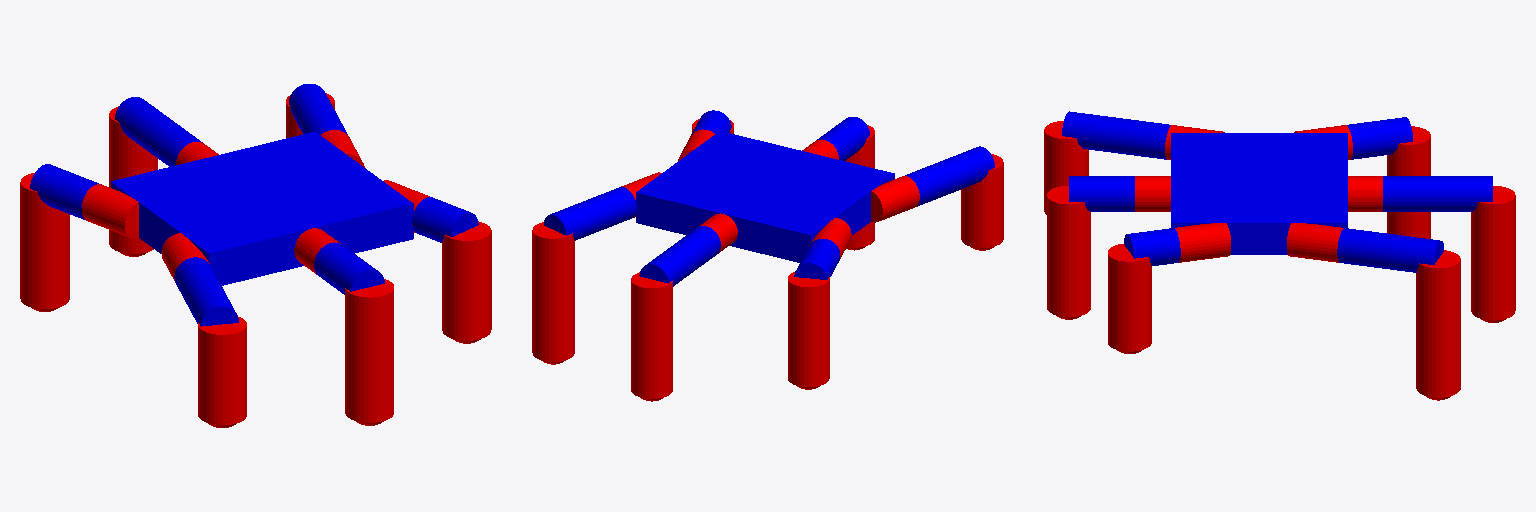
--- What the picture shows (computed from the rendered views, not written in the file) ---
The picture shows the robot from 3 angles, left to right: view 1: azimuth 30°, elevation 25°; view 2: azimuth 150°, elevation 25°; view 3: azimuth 270°, elevation 25°; orthographic projection.
Model pexod with 19 links and 18 joints (18 revolute), rooted at base_link, posed every joint at zero.
Visible links, largest first — view 1: base_link, leg_4_3, leg_0_3, leg_3_3, leg_5_3, leg_1_2, leg_5_2, leg_1_3, leg_4_2, leg_0_1, leg_0_2, leg_3_2 (+5 smaller); view 2: base_link, leg_2_3, leg_1_3, leg_0_3, leg_5_3, leg_2_2, leg_5_2, leg_1_2, leg_5_1, leg_0_2, leg_4_2, leg_4_3 (+3 smaller); view 3: base_link, leg_2_3, leg_1_3, leg_4_3, leg_3_3, leg_1_2, leg_5_2, leg_2_2, leg_0_3, leg_5_3, leg_4_2, leg_0_2 (+5 smaller).
Boxes of the visible links, bbox=[...] form: base_link: bbox=[111, 132, 413, 285]; leg_4_3: bbox=[345, 279, 393, 425]; leg_0_3: bbox=[20, 173, 69, 311]; leg_3_3: bbox=[442, 221, 491, 343]; leg_5_3: bbox=[198, 317, 246, 427]; leg_1_2: bbox=[115, 97, 202, 166]; leg_5_2: bbox=[174, 257, 238, 326]; leg_1_3: bbox=[109, 106, 157, 256]; leg_4_2: bbox=[314, 242, 384, 294]; leg_0_1: bbox=[82, 184, 138, 238]; leg_0_2: bbox=[30, 164, 101, 219]; leg_3_2: bbox=[412, 197, 478, 242]; base_link: bbox=[636, 131, 894, 262]; leg_2_3: bbox=[532, 222, 574, 364]; leg_1_3: bbox=[631, 272, 672, 401]; leg_0_3: bbox=[788, 272, 829, 389]; leg_5_3: bbox=[961, 154, 1003, 250]; leg_2_2: bbox=[544, 187, 636, 240]; leg_5_2: bbox=[905, 146, 994, 206]; leg_1_2: bbox=[639, 226, 720, 286]; leg_5_1: bbox=[871, 176, 919, 222]; leg_0_2: bbox=[794, 239, 839, 279]; leg_4_2: bbox=[817, 117, 869, 160]; leg_4_3: bbox=[846, 125, 874, 250]; base_link: bbox=[1171, 133, 1347, 254]; leg_2_3: bbox=[1416, 250, 1460, 400]; leg_1_3: bbox=[1471, 186, 1515, 322]; leg_4_3: bbox=[1047, 186, 1090, 319]; leg_3_3: bbox=[1108, 244, 1151, 353]; leg_1_2: bbox=[1383, 176, 1492, 211]; leg_5_2: bbox=[1062, 111, 1170, 159]; leg_2_2: bbox=[1337, 228, 1443, 272]; leg_0_3: bbox=[1387, 126, 1430, 238]; leg_5_3: bbox=[1044, 121, 1088, 214]; leg_4_2: bbox=[1069, 176, 1134, 211]; leg_0_2: bbox=[1347, 117, 1412, 159].
Bounding box of the posed robot: 0.395 × 0.532 × 0.1938 m (x, y, z).
Geometry: primitives only (box / cylinder / sphere), no mesh files.

robot.urdf — pexod:
<?xml version="1.0" ?>
<!-- =================================================================================== -->
<!-- |    This document was autogenerated by xacro from pexod.xacro                    | -->
<!-- |    EDITING THIS FILE BY HAND IS NOT RECOMMENDED                                 | -->
<!-- =================================================================================== -->
<robot name="pexod" xmlns:xacro="http://www.ros.org/wiki/xacro">
  <!-- <xacro:include filename="$(find pexod_description)/urdf/pexod_control.xacro" /> -->
  <!-- MATERIALS -->
  <material name="Blue">
    <color rgba="0 0 1 1"/>
  </material>
  <material name="Red">
    <color rgba="1 0 0 1"/>
  </material>
  <material name="Green">
    <color rgba="0 1 0 1"/>
  </material>
  <material name="Yellow">
    <color rgba="1 1 0 1"/>
  </material>
  <material name="LightGrey">
    <color rgba="0.6 0.6 0.6 1.0"/>
  </material>
  <!-- END OF MATERIALS -->
  <!-- XACRO MACROS FOR VISUALS AND COLLISIONS -->
  <!-- END OF XACRO MACROS -->
  <!-- TORSO -->
  <link name="base_link">
    <visual>
      <origin rpy="0 0 0" xyz="0 0 0"/>
      <geometry>
        <box size="0.24 0.2 0.04"/>
      </geometry>
      <material name="Blue"/>
    </visual>
    <collision>
      <origin rpy="0 0 0" xyz="0 0 0"/>
      <geometry>
        <box size="0.24 0.2 0.04"/>
      </geometry>
    </collision>
    <inertial>
      <!-- CENTER OF MASS -->
      <origin rpy="0 0 0" xyz="0 0 0"/>
      <mass value="1.031"/>
      <!-- box inertia: 1/12*m(y^2+z^2), ... -->
      <inertia ixx="0.00357413333333" ixy="0" ixz="0" iyy="0.00508626666667" iyz="0" izz="0.00838546666667"/>
    </inertial>
  </link>
  <!-- XACRO MACRO FOR LEGS LINKS/JOINTS -->
  <!-- END OF LEG LINKS/JOINTS -->
  <joint name="body_leg_2" type="revolute">
    <parent link="base_link"/>
    <child link="leg_2_1"/>
    <limit effort="30.0" lower="-1.57079632679" upper="1.57079632679" velocity="7.0"/>
    <origin rpy="0 0 -0.3" xyz="0.11 0.04 0"/>
    <!-- <xacro:if value="${index == 5 or index == 4 or index == 3}">
                <axis xyz="0 0 1"/>
            </xacro:if>
            <xacro:if value="${index == 2 or index == 1 or index == 0}"> -->
    <axis xyz="0 0 1"/>
    <!-- </xacro:if> -->
    <dynamics damping="0.0"/>
  </joint>
  <link name="leg_2_1">
    <visual>
      <origin rpy="1.57079632679 0 0" xyz="0.01 0.03 0"/>
      <geometry>
        <cylinder length="0.06" radius="0.02"/>
      </geometry>
      <material name="Red"/>
    </visual>
    <collision>
      <origin rpy="1.57079632679 0 0" xyz="0.01 0.03 0"/>
      <geometry>
        <box size="0.02 0.02 0.06"/>
      </geometry>
    </collision>
    <inertial>
      <!-- CENTER OF MASS -->
      <origin rpy="1.57079632679 0 0" xyz="0.01 0.03 0"/>
      <mass value="0.02"/>
      <!-- box inertia: 1/12*m(y^2+z^2), ... -->
      <inertia ixx="6.66666666667e-06" ixy="0" ixz="0" iyy="6.66666666667e-06" iyz="0" izz="1.33333333333e-06"/>
    </inertial>
  </link>
  <joint name="leg_2_1_2" type="revolute">
    <parent link="leg_2_1"/>
    <child link="leg_2_2"/>
    <limit effort="30.0" lower="-0.78539816339" upper="0.78539816339" velocity="7.0"/>
    <origin rpy="0 0 0" xyz="0 0.06 0"/>
    <axis xyz="1 0 0"/>
    <dynamics damping="0.0"/>
  </joint>
  <link name="leg_2_2">
    <visual>
      <origin rpy="1.57079632679 0 0" xyz="0.01 0.057090820959 0"/>
      <geometry>
        <cylinder length="0.114181641918" radius="0.02"/>
      </geometry>
      <material name="Blue"/>
    </visual>
    <collision>
      <origin rpy="1.57079632679 0 0" xyz="0.01 0.057090820959 0"/>
      <geometry>
        <box size="0.02 0.02 0.114181641918"/>
      </geometry>
    </collision>
    <inertial>
      <!-- CENTER OF MASS -->
      <origin rpy="1.57079632679 0 0" xyz="0.01 0.057090820959 0"/>
      <mass value="0.184"/>
      <!-- box inertia: 1/12*m(y^2+z^2), ... -->
      <inertia ixx="0.000206040859383" ixy="0" ixz="0" iyy="0.000206040859383" iyz="0" izz="1.22666666667e-05"/>
    </inertial>
  </link>
  <joint name="leg_2_2_3" type="revolute">
    <parent link="leg_2_2"/>
    <child link="leg_2_3"/>
    <limit effort="30.0" lower="-0.78539816339" upper="0.78539816339" velocity="7.0"/>
    <origin rpy="-1.57079632679 0 0" xyz="0 0.114181641918 0"/>
    <axis xyz="-1 0 0"/>
    <dynamics damping="0.0"/>
  </joint>
  <link name="leg_2_3">
    <visual>
      <origin rpy="1.57079632679 0 0" xyz="0.0125 0.0806663471095 0"/>
      <geometry>
        <cylinder length="0.161332694219" radius="0.025"/>
      </geometry>
      <material name="Red"/>
    </visual>
    <visual>
      <origin rpy="1.57079632679 0 0" xyz="0.0125 0.148832694219 0"/>
      <geometry>
        <sphere radius="0.025"/>
      </geometry>
      <material name="Red"/>
    </visual>
    <collision>
      <origin rpy="1.57079632679 0 0" xyz="0.0125 0.0806663471095 0"/>
      <geometry>
        <box size="0.025 0.025 0.161332694219"/>
      </geometry>
    </collision>
    <collision>
      <origin rpy="1.57079632679 0 0" xyz="0.0125 0.148832694219 0"/>
      <geometry>
        <sphere radius="0.025"/>
      </geometry>
      <material name="Red"/>
    </collision>
    <inertial>
      <!-- CENTER OF MASS -->
      <origin rpy="1.57079632679 0 0" xyz="0.0125 0.0806663471095 0"/>
      <mass value="0.04"/>
      <!-- box inertia: 1/12*m(y^2+z^2), ... -->
      <inertia ixx="8.88441274132e-05" ixy="0" ixz="0" iyy="8.88441274132e-05" iyz="0" izz="4.16666666667e-06"/>
    </inertial>
  </link>
  <joint name="body_leg_3" type="revolute">
    <parent link="base_link"/>
    <child link="leg_3_1"/>
    <limit effort="30.0" lower="-1.57079632679" upper="1.57079632679" velocity="7.0"/>
    <origin rpy="0 0 0.3" xyz="0.11 -0.04 0"/>
    <!-- <xacro:if value="${index == 5 or index == 4 or index == 3}">
                <axis xyz="0 0 1"/>
            </xacro:if>
            <xacro:if value="${index == 2 or index == 1 or index == 0}"> -->
    <axis xyz="0 0 1"/>
    <!-- </xacro:if> -->
    <dynamics damping="0.0"/>
  </joint>
  <link name="leg_3_1">
    <visual>
      <origin rpy="1.57079632679 0 0" xyz="0.01 -0.03 0"/>
      <geometry>
        <cylinder length="0.06" radius="0.02"/>
      </geometry>
      <material name="Red"/>
    </visual>
    <collision>
      <origin rpy="1.57079632679 0 0" xyz="0.01 -0.03 0"/>
      <geometry>
        <box size="0.02 0.02 0.06"/>
      </geometry>
    </collision>
    <inertial>
      <!-- CENTER OF MASS -->
      <origin rpy="1.57079632679 0 0" xyz="0.01 -0.03 0"/>
      <mass value="0.02"/>
      <!-- box inertia: 1/12*m(y^2+z^2), ... -->
      <inertia ixx="6.66666666667e-06" ixy="0" ixz="0" iyy="6.66666666667e-06" iyz="0" izz="1.33333333333e-06"/>
    </inertial>
  </link>
  <joint name="leg_3_1_2" type="revolute">
    <parent link="leg_3_1"/>
    <child link="leg_3_2"/>
    <limit effort="30.0" lower="-0.78539816339" upper="0.78539816339" velocity="7.0"/>
    <origin rpy="0 0 0" xyz="0 -0.06 0"/>
    <axis xyz="-1 0 0"/>
    <dynamics damping="0.0"/>
  </joint>
  <link name="leg_3_2">
    <visual>
      <origin rpy="1.57079632679 0 0" xyz="0.01 -0.0274168233649 0"/>
      <geometry>
        <cylinder length="0.0548336467298" radius="0.02"/>
      </geometry>
      <material name="Blue"/>
    </visual>
    <collision>
      <origin rpy="1.57079632679 0 0" xyz="0.01 -0.0274168233649 0"/>
      <geometry>
        <box size="0.02 0.02 0.0548336467298"/>
      </geometry>
    </collision>
    <inertial>
      <!-- CENTER OF MASS -->
      <origin rpy="1.57079632679 0 0" xyz="0.01 -0.0274168233649 0"/>
      <mass value="0.184"/>
      <!-- box inertia: 1/12*m(y^2+z^2), ... -->
      <inertia ixx="5.22365084766e-05" ixy="0" ixz="0" iyy="5.22365084766e-05" iyz="0" izz="1.22666666667e-05"/>
    </inertial>
  </link>
  <joint name="leg_3_2_3" type="revolute">
    <parent link="leg_3_2"/>
    <child link="leg_3_3"/>
    <limit effort="30.0" lower="-0.78539816339" upper="0.78539816339" velocity="7.0"/>
    <origin rpy="1.57079632679 0 0" xyz="0 -0.0548336467298 0"/>
    <axis xyz="1 0 0"/>
    <dynamics damping="0.0"/>
  </joint>
  <link name="leg_3_3">
    <visual>
      <origin rpy="1.57079632679 0 0" xyz="0.0125 -0.0559832169965 0"/>
      <geometry>
        <cylinder length="0.111966433993" radius="0.025"/>
      </geometry>
      <material name="Red"/>
    </visual>
    <visual>
      <origin rpy="1.57079632679 0 0" xyz="0.0125 -0.099466433993 0"/>
      <geometry>
        <sphere radius="0.025"/>
      </geometry>
      <material name="Red"/>
    </visual>
    <collision>
      <origin rpy="1.57079632679 0 0" xyz="0.0125 -0.0559832169965 0"/>
      <geometry>
        <box size="0.025 0.025 0.111966433993"/>
      </geometry>
    </collision>
    <collision>
      <origin rpy="1.57079632679 0 0" xyz="0.0125 -0.099466433993 0"/>
      <geometry>
        <sphere radius="0.025"/>
      </geometry>
      <material name="Red"/>
    </collision>
    <inertial>
      <!-- CENTER OF MASS -->
      <origin rpy="1.57079632679 0 0" xyz="0.0125 -0.0559832169965 0"/>
      <mass value="0.04"/>
      <!-- box inertia: 1/12*m(y^2+z^2), ... -->
      <inertia ixx="4.38716078037e-05" ixy="0" ixz="0" iyy="4.38716078037e-05" iyz="0" izz="4.16666666667e-06"/>
    </inertial>
  </link>
  <joint name="body_leg_0" type="revolute">
    <parent link="base_link"/>
    <child link="leg_0_1"/>
    <limit effort="30.0" lower="-1.57079632679" upper="1.57079632679" velocity="7.0"/>
    <origin rpy="0 0 0.3" xyz="-0.13 0.04 0"/>
    <!-- <xacro:if value="${index == 5 or index == 4 or index == 3}">
                <axis xyz="0 0 1"/>
            </xacro:if>
            <xacro:if value="${index == 2 or index == 1 or index == 0}"> -->
    <axis xyz="0 0 1"/>
    <!-- </xacro:if> -->
    <dynamics damping="0.0"/>
  </joint>
  <link name="leg_0_1">
    <visual>
      <origin rpy="1.57079632679 0 0" xyz="0.01 0.03 0"/>
      <geometry>
        <cylinder length="0.06" radius="0.02"/>
      </geometry>
      <material name="Red"/>
    </visual>
    <collision>
      <origin rpy="1.57079632679 0 0" xyz="0.01 0.03 0"/>
      <geometry>
        <box size="0.02 0.02 0.06"/>
      </geometry>
    </collision>
    <inertial>
      <!-- CENTER OF MASS -->
      <origin rpy="1.57079632679 0 0" xyz="0.01 0.03 0"/>
      <mass value="0.02"/>
      <!-- box inertia: 1/12*m(y^2+z^2), ... -->
      <inertia ixx="6.66666666667e-06" ixy="0" ixz="0" iyy="6.66666666667e-06" iyz="0" izz="1.33333333333e-06"/>
    </inertial>
  </link>
  <joint name="leg_0_1_2" type="revolute">
    <parent link="leg_0_1"/>
    <child link="leg_0_2"/>
    <limit effort="30.0" lower="-0.78539816339" upper="0.78539816339" velocity="7.0"/>
    <origin rpy="0 0 0" xyz="0 0.06 0"/>
    <axis xyz="1 0 0"/>
    <dynamics damping="0.0"/>
  </joint>
  <link name="leg_0_2">
    <visual>
      <origin rpy="1.57079632679 0 0" xyz="0.01 0.0356251604495 0"/>
      <geometry>
        <cylinder length="0.0712503208989" radius="0.02"/>
      </geometry>
      <material name="Blue"/>
    </visual>
    <collision>
      <origin rpy="1.57079632679 0 0" xyz="0.01 0.0356251604495 0"/>
      <geometry>
        <box size="0.02 0.02 0.0712503208989"/>
      </geometry>
    </collision>
    <inertial>
      <!-- CENTER OF MASS -->
      <origin rpy="1.57079632679 0 0" xyz="0.01 0.0356251604495 0"/>
      <mass value="0.184"/>
      <!-- box inertia: 1/12*m(y^2+z^2), ... -->
      <inertia ixx="8.3974659499e-05" ixy="0" ixz="0" iyy="8.3974659499e-05" iyz="0" izz="1.22666666667e-05"/>
    </inertial>
  </link>
  <joint name="leg_0_2_3" type="revolute">
    <parent link="leg_0_2"/>
    <child link="leg_0_3"/>
    <limit effort="30.0" lower="-0.78539816339" upper="0.78539816339" velocity="7.0"/>
    <origin rpy="-1.57079632679 0 0" xyz="0 0.0712503208989 0"/>
    <axis xyz="-1 0 0"/>
    <dynamics damping="0.0"/>
  </joint>
  <link name="leg_0_3">
    <visual>
      <origin rpy="1.57079632679 0 0" xyz="0.0125 0.0654492996055 0"/>
      <geometry>
        <cylinder length="0.130898599211" radius="0.025"/>
      </geometry>
      <material name="Red"/>
    </visual>
    <visual>
      <origin rpy="1.57079632679 0 0" xyz="0.0125 0.118398599211 0"/>
      <geometry>
        <sphere radius="0.025"/>
      </geometry>
      <material name="Red"/>
    </visual>
    <collision>
      <origin rpy="1.57079632679 0 0" xyz="0.0125 0.0654492996055 0"/>
      <geometry>
        <box size="0.025 0.025 0.130898599211"/>
      </geometry>
    </collision>
    <collision>
      <origin rpy="1.57079632679 0 0" xyz="0.0125 0.118398599211 0"/>
      <geometry>
        <sphere radius="0.025"/>
      </geometry>
      <material name="Red"/>
    </collision>
    <inertial>
      <!-- CENTER OF MASS -->
      <origin rpy="1.57079632679 0 0" xyz="0.0125 0.0654492996055 0"/>
      <mass value="0.04"/>
      <!-- box inertia: 1/12*m(y^2+z^2), ... -->
      <inertia ixx="5.91981442513e-05" ixy="0" ixz="0" iyy="5.91981442513e-05" iyz="0" izz="4.16666666667e-06"/>
    </inertial>
  </link>
  <joint name="body_leg_5" type="revolute">
    <parent link="base_link"/>
    <child link="leg_5_1"/>
    <limit effort="30.0" lower="-1.57079632679" upper="1.57079632679" velocity="7.0"/>
    <origin rpy="0 0 -0.3" xyz="-0.13 -0.04 0"/>
    <!-- <xacro:if value="${index == 5 or index == 4 or index == 3}">
                <axis xyz="0 0 1"/>
            </xacro:if>
            <xacro:if value="${index == 2 or index == 1 or index == 0}"> -->
    <axis xyz="0 0 1"/>
    <!-- </xacro:if> -->
    <dynamics damping="0.0"/>
  </joint>
  <link name="leg_5_1">
    <visual>
      <origin rpy="1.57079632679 0 0" xyz="0.01 -0.03 0"/>
      <geometry>
        <cylinder length="0.06" radius="0.02"/>
      </geometry>
      <material name="Red"/>
    </visual>
    <collision>
      <origin rpy="1.57079632679 0 0" xyz="0.01 -0.03 0"/>
      <geometry>
        <box size="0.02 0.02 0.06"/>
      </geometry>
    </collision>
    <inertial>
      <!-- CENTER OF MASS -->
      <origin rpy="1.57079632679 0 0" xyz="0.01 -0.03 0"/>
      <mass value="0.02"/>
      <!-- box inertia: 1/12*m(y^2+z^2), ... -->
      <inertia ixx="6.66666666667e-06" ixy="0" ixz="0" iyy="6.66666666667e-06" iyz="0" izz="1.33333333333e-06"/>
    </inertial>
  </link>
  <joint name="leg_5_1_2" type="revolute">
    <parent link="leg_5_1"/>
    <child link="leg_5_2"/>
    <limit effort="30.0" lower="-0.78539816339" upper="0.78539816339" velocity="7.0"/>
    <origin rpy="0 0 0" xyz="0 -0.06 0"/>
    <axis xyz="-1 0 0"/>
    <dynamics damping="0.0"/>
  </joint>
  <link name="leg_5_2">
    <visual>
      <origin rpy="1.57079632679 0 0" xyz="0.01 -0.060945044804 0"/>
      <geometry>
        <cylinder length="0.121890089608" radius="0.02"/>
      </geometry>
      <material name="Blue"/>
    </visual>
    <collision>
      <origin rpy="1.57079632679 0 0" xyz="0.01 -0.060945044804 0"/>
      <geometry>
        <box size="0.02 0.02 0.121890089608"/>
      </geometry>
    </collision>
    <inertial>
      <!-- CENTER OF MASS -->
      <origin rpy="1.57079632679 0 0" xyz="0.01 -0.060945044804 0"/>
      <mass value="0.184"/>
      <!-- box inertia: 1/12*m(y^2+z^2), ... -->
      <inertia ixx="0.000233943640485" ixy="0" ixz="0" iyy="0.000233943640485" iyz="0" izz="1.22666666667e-05"/>
    </inertial>
  </link>
  <joint name="leg_5_2_3" type="revolute">
    <parent link="leg_5_2"/>
    <child link="leg_5_3"/>
    <limit effort="30.0" lower="-0.78539816339" upper="0.78539816339" velocity="7.0"/>
    <origin rpy="1.57079632679 0 0" xyz="0 -0.121890089608 0"/>
    <axis xyz="1 0 0"/>
    <dynamics damping="0.0"/>
  </joint>
  <link name="leg_5_3">
    <visual>
      <origin rpy="1.57079632679 0 0" xyz="0.0125 -0.0507118047275 0"/>
      <geometry>
        <cylinder length="0.101423609455" radius="0.025"/>
      </geometry>
      <material name="Red"/>
    </visual>
    <visual>
      <origin rpy="1.57079632679 0 0" xyz="0.0125 -0.088923609455 0"/>
      <geometry>
        <sphere radius="0.025"/>
      </geometry>
      <material name="Red"/>
    </visual>
    <collision>
      <origin rpy="1.57079632679 0 0" xyz="0.0125 -0.0507118047275 0"/>
      <geometry>
        <box size="0.025 0.025 0.101423609455"/>
      </geometry>
    </collision>
    <collision>
      <origin rpy="1.57079632679 0 0" xyz="0.0125 -0.088923609455 0"/>
      <geometry>
        <sphere radius="0.025"/>
      </geometry>
      <material name="Red"/>
    </collision>
    <inertial>
      <!-- CENTER OF MASS -->
      <origin rpy="1.57079632679 0 0" xyz="0.0125 -0.0507118047275 0"/>
      <mass value="0.04"/>
      <!-- box inertia: 1/12*m(y^2+z^2), ... -->
      <inertia ixx="3.63724951829e-05" ixy="0" ixz="0" iyy="3.63724951829e-05" iyz="0" izz="4.16666666667e-06"/>
    </inertial>
  </link>
  <joint name="body_leg_1" type="revolute">
    <parent link="base_link"/>
    <child link="leg_1_1"/>
    <limit effort="30.0" lower="-1.57079632679" upper="1.57079632679" velocity="7.0"/>
    <origin rpy="0 0 0" xyz="-0.01 0.08 0"/>
    <!-- <xacro:if value="${index == 5 or index == 4 or index == 3}">
                <axis xyz="0 0 1"/>
            </xacro:if>
            <xacro:if value="${index == 2 or index == 1 or index == 0}"> -->
    <axis xyz="0 0 1"/>
    <!-- </xacro:if> -->
    <dynamics damping="0.0"/>
  </joint>
  <link name="leg_1_1">
    <visual>
      <origin rpy="1.57079632679 0 0" xyz="0.01 0.03 0"/>
      <geometry>
        <cylinder length="0.06" radius="0.02"/>
      </geometry>
      <material name="Red"/>
    </visual>
    <collision>
      <origin rpy="1.57079632679 0 0" xyz="0.01 0.03 0"/>
      <geometry>
        <box size="0.02 0.02 0.06"/>
      </geometry>
    </collision>
    <inertial>
      <!-- CENTER OF MASS -->
      <origin rpy="1.57079632679 0 0" xyz="0.01 0.03 0"/>
      <mass value="0.02"/>
      <!-- box inertia: 1/12*m(y^2+z^2), ... -->
      <inertia ixx="6.66666666667e-06" ixy="0" ixz="0" iyy="6.66666666667e-06" iyz="0" izz="1.33333333333e-06"/>
    </inertial>
  </link>
  <joint name="leg_1_1_2" type="revolute">
    <parent link="leg_1_1"/>
    <child link="leg_1_2"/>
    <limit effort="30.0" lower="-0.78539816339" upper="0.78539816339" velocity="7.0"/>
    <origin rpy="0 0 0" xyz="0 0.06 0"/>
    <axis xyz="1 0 0"/>
    <dynamics damping="0.0"/>
  </joint>
  <link name="leg_1_2">
    <visual>
      <origin rpy="1.57079632679 0 0" xyz="0.01 0.062348264352 0"/>
      <geometry>
        <cylinder length="0.124696528704" radius="0.02"/>
      </geometry>
      <material name="Blue"/>
    </visual>
    <collision>
      <origin rpy="1.57079632679 0 0" xyz="0.01 0.062348264352 0"/>
      <geometry>
        <box size="0.02 0.02 0.124696528704"/>
      </geometry>
    </collision>
    <inertial>
      <!-- CENTER OF MASS -->
      <origin rpy="1.57079632679 0 0" xyz="0.01 0.062348264352 0"/>
      <mass value="0.184"/>
      <!-- box inertia: 1/12*m(y^2+z^2), ... -->
      <inertia ixx="0.000244554772153" ixy="0" ixz="0" iyy="0.000244554772153" iyz="0" izz="1.22666666667e-05"/>
    </inertial>
  </link>
  <joint name="leg_1_2_3" type="revolute">
    <parent link="leg_1_2"/>
    <child link="leg_1_3"/>
    <limit effort="30.0" lower="-0.78539816339" upper="0.78539816339" velocity="7.0"/>
    <origin rpy="-1.57079632679 0 0" xyz="0 0.124696528704 0"/>
    <axis xyz="-1 0 0"/>
    <dynamics damping="0.0"/>
  </joint>
  <link name="leg_1_3">
    <visual>
      <origin rpy="1.57079632679 0 0" xyz="0.0125 0.072374606662 0"/>
      <geometry>
        <cylinder length="0.144749213324" radius="0.025"/>
      </geometry>
      <material name="Red"/>
    </visual>
    <visual>
      <origin rpy="1.57079632679 0 0" xyz="0.0125 0.132249213324 0"/>
      <geometry>
        <sphere radius="0.025"/>
      </geometry>
      <material name="Red"/>
    </visual>
    <collision>
      <origin rpy="1.57079632679 0 0" xyz="0.0125 0.072374606662 0"/>
      <geometry>
        <box size="0.025 0.025 0.144749213324"/>
      </geometry>
    </collision>
    <collision>
      <origin rpy="1.57079632679 0 0" xyz="0.0125 0.132249213324 0"/>
      <geometry>
        <sphere radius="0.025"/>
      </geometry>
      <material name="Red"/>
    </collision>
    <inertial>
      <!-- CENTER OF MASS -->
      <origin rpy="1.57079632679 0 0" xyz="0.0125 0.072374606662 0"/>
      <mass value="0.04"/>
      <!-- box inertia: 1/12*m(y^2+z^2), ... -->
      <inertia ixx="7.19244491931e-05" ixy="0" ixz="0" iyy="7.19244491931e-05" iyz="0" izz="4.16666666667e-06"/>
    </inertial>
  </link>
  <joint name="body_leg_4" type="revolute">
    <parent link="base_link"/>
    <child link="leg_4_1"/>
    <limit effort="30.0" lower="-1.57079632679" upper="1.57079632679" velocity="7.0"/>
    <origin rpy="0 0 0" xyz="-0.01 -0.08 0"/>
    <!-- <xacro:if value="${index == 5 or index == 4 or index == 3}">
                <axis xyz="0 0 1"/>
            </xacro:if>
            <xacro:if value="${index == 2 or index == 1 or index == 0}"> -->
    <axis xyz="0 0 1"/>
    <!-- </xacro:if> -->
    <dynamics damping="0.0"/>
  </joint>
  <link name="leg_4_1">
    <visual>
      <origin rpy="1.57079632679 0 0" xyz="0.01 -0.03 0"/>
      <geometry>
        <cylinder length="0.06" radius="0.02"/>
      </geometry>
      <material name="Red"/>
    </visual>
    <collision>
      <origin rpy="1.57079632679 0 0" xyz="0.01 -0.03 0"/>
      <geometry>
        <box size="0.02 0.02 0.06"/>
      </geometry>
    </collision>
    <inertial>
      <!-- CENTER OF MASS -->
      <origin rpy="1.57079632679 0 0" xyz="0.01 -0.03 0"/>
      <mass value="0.02"/>
      <!-- box inertia: 1/12*m(y^2+z^2), ... -->
      <inertia ixx="6.66666666667e-06" ixy="0" ixz="0" iyy="6.66666666667e-06" iyz="0" izz="1.33333333333e-06"/>
    </inertial>
  </link>
  <joint name="leg_4_1_2" type="revolute">
    <parent link="leg_4_1"/>
    <child link="leg_4_2"/>
    <limit effort="30.0" lower="-0.78539816339" upper="0.78539816339" velocity="7.0"/>
    <origin rpy="0 0 0" xyz="0 -0.06 0"/>
    <axis xyz="-1 0 0"/>
    <dynamics damping="0.0"/>
  </joint>
  <link name="leg_4_2">
    <visual>
      <origin rpy="1.57079632679 0 0" xyz="0.01 -0.037297917312 0"/>
      <geometry>
        <cylinder length="0.0745958346239" radius="0.02"/>
      </geometry>
      <material name="Blue"/>
    </visual>
    <collision>
      <origin rpy="1.57079632679 0 0" xyz="0.01 -0.037297917312 0"/>
      <geometry>
        <box size="0.02 0.02 0.0745958346239"/>
      </geometry>
    </collision>
    <inertial>
      <!-- CENTER OF MASS -->
      <origin rpy="1.57079632679 0 0" xyz="0.01 -0.037297917312 0"/>
      <mass value="0.184"/>
      <!-- box inertia: 1/12*m(y^2+z^2), ... -->
      <inertia ixx="9.1456257663e-05" ixy="0" ixz="0" iyy="9.1456257663e-05" iyz="0" izz="1.22666666667e-05"/>
    </inertial>
  </link>
  <joint name="leg_4_2_3" type="revolute">
    <parent link="leg_4_2"/>
    <child link="leg_4_3"/>
    <limit effort="30.0" lower="-0.78539816339" upper="0.78539816339" velocity="7.0"/>
    <origin rpy="1.57079632679 0 0" xyz="0 -0.0745958346239 0"/>
    <axis xyz="1 0 0"/>
    <dynamics damping="0.0"/>
  </joint>
  <link name="leg_4_3">
    <visual>
      <origin rpy="1.57079632679 0 0" xyz="0.0125 -0.070264980195 0"/>
      <geometry>
        <cylinder length="0.14052996039" radius="0.025"/>
      </geometry>
      <material name="Red"/>
    </visual>
    <visual>
      <origin rpy="1.57079632679 0 0" xyz="0.0125 -0.12802996039 0"/>
      <geometry>
        <sphere radius="0.025"/>
      </geometry>
      <material name="Red"/>
    </visual>
    <collision>
      <origin rpy="1.57079632679 0 0" xyz="0.0125 -0.070264980195 0"/>
      <geometry>
        <box size="0.025 0.025 0.14052996039"/>
      </geometry>
    </collision>
    <collision>
      <origin rpy="1.57079632679 0 0" xyz="0.0125 -0.12802996039 0"/>
      <geometry>
        <sphere radius="0.025"/>
      </geometry>
      <material name="Red"/>
    </collision>
    <inertial>
      <!-- CENTER OF MASS -->
      <origin rpy="1.57079632679 0 0" xyz="0.0125 -0.070264980195 0"/>
      <mass value="0.04"/>
      <!-- box inertia: 1/12*m(y^2+z^2), ... -->
      <inertia ixx="6.79122325574e-05" ixy="0" ixz="0" iyy="6.79122325574e-05" iyz="0" izz="4.16666666667e-06"/>
    </inertial>
  </link>
  <!-- END OF LEG LINKS/JOINTS -->
</robot>
